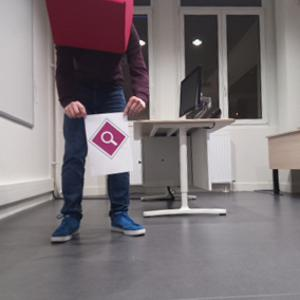search: (88, 118, 129, 159)
